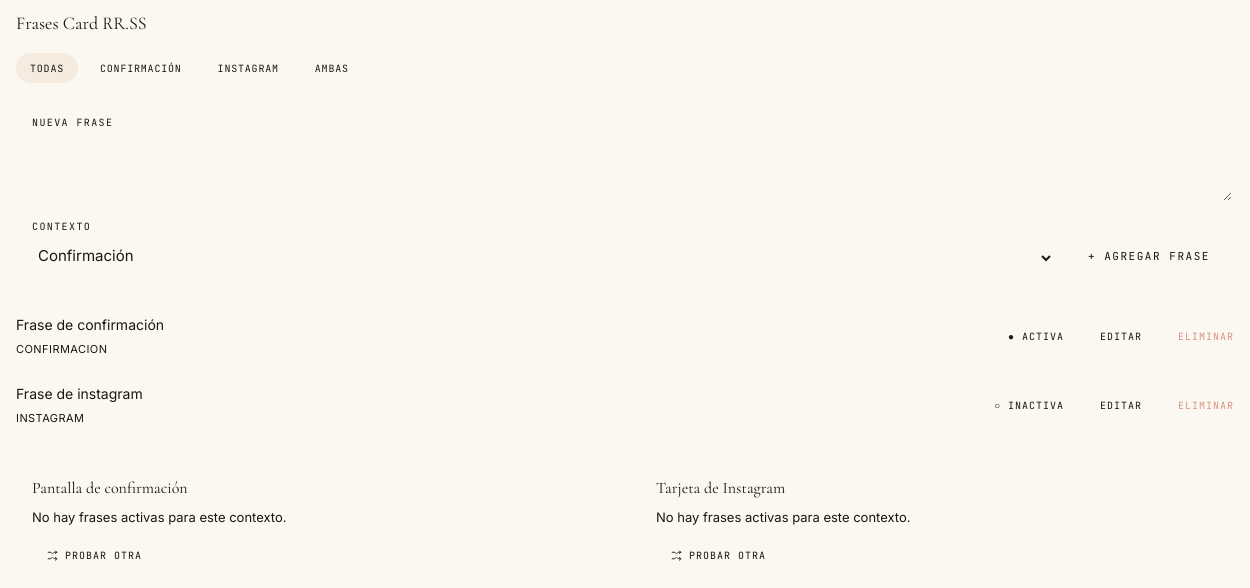
PhrasesPanel › draws a preview phrase for a context
Expected: the text "Frase de confirmación" is shown, [16,316,164,333]
Click the button "Probar otra" below "Pantalla de confirmación" at (94, 556), box [32,540,156,572]
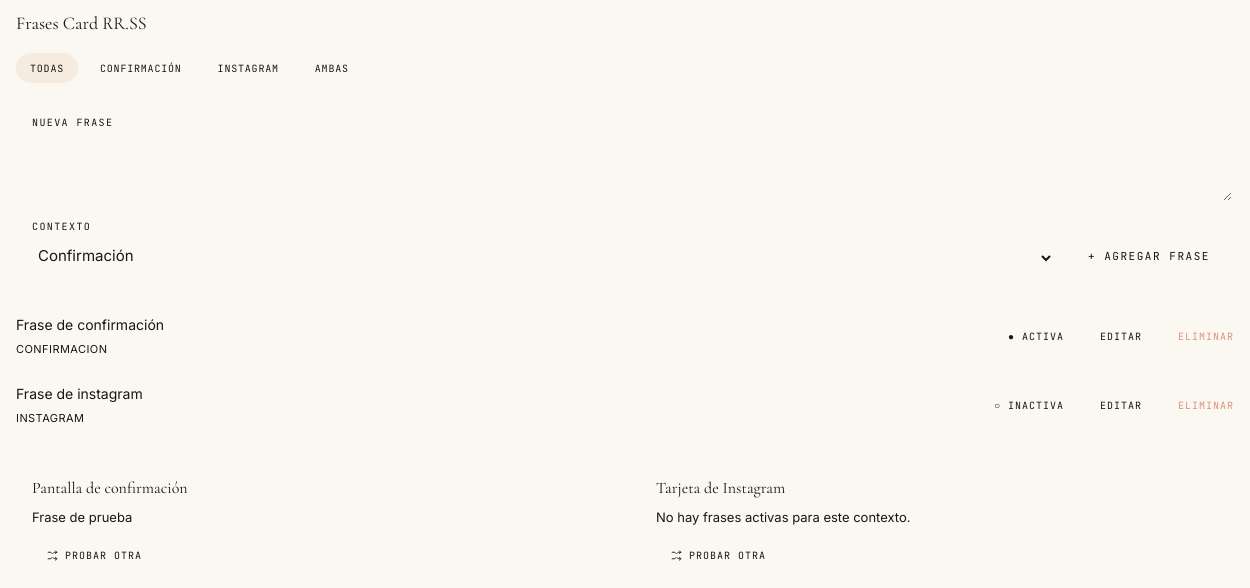
Now the text "Frase de prueba" is shown, box [32,509,132,525]
